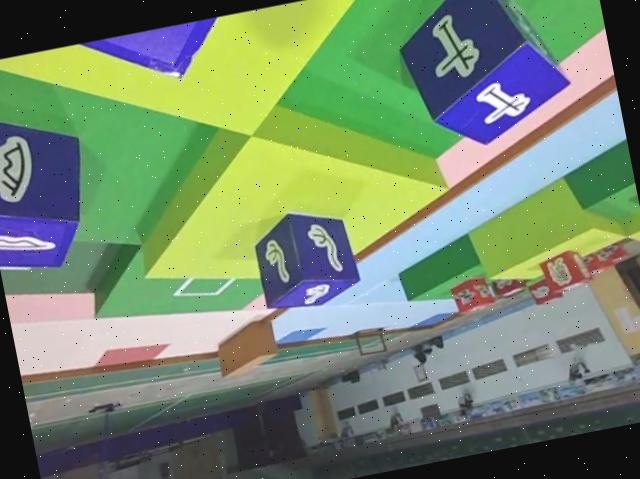R2 Real Blue: (388, 0, 579, 155), (0, 87, 103, 276), (248, 198, 365, 313)
